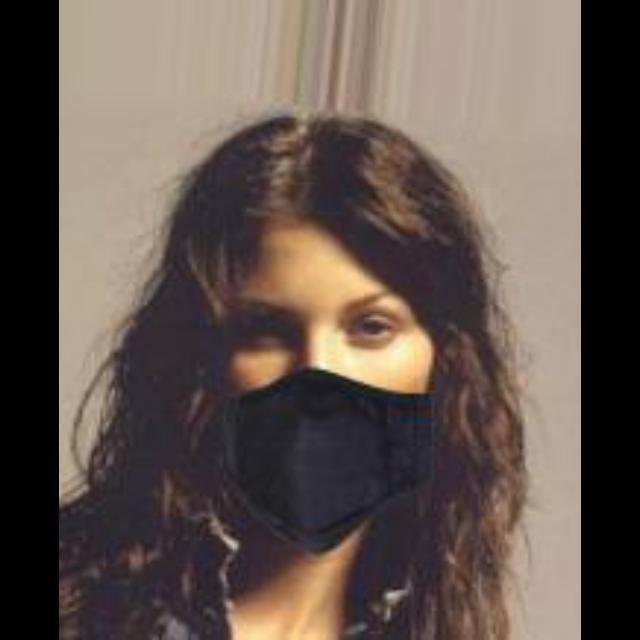suspicion: (160, 150, 492, 554)
